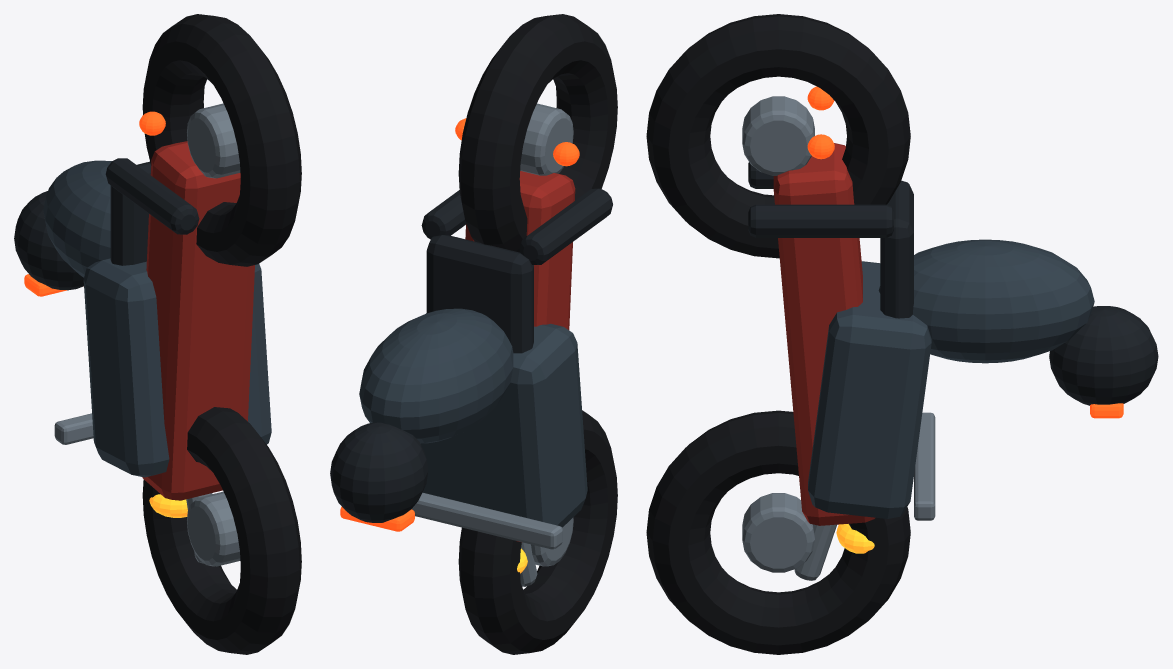
Rendered from raider-bike.glb.
The picture shows the model from 3 angles, left to right: view 1: azimuth 30°, elevation 25°; view 2: azimuth 150°, elevation 25°; view 3: azimuth 270°, elevation 25°; orthographic projection. The views are drawn at different scales.
Visible parts, largest first — view 1: Bike_Frame, wheel_0.72, wheel_-0.72, Bike_Armour, Bike_RiderTorso, Bike_RiderHead, Bike_Exhaust_-1, Hub_-0.72, Hub_0.72, Bike_Seat, Bike_Handle, Bike_Headlight (+1 smaller); view 2: wheel_0.72, Bike_Armour, wheel_-0.72, Bike_RiderTorso, Bike_Seat, Bike_RiderHead, Bike_Frame, Bike_Handle, Bike_Exhaust_-1, Hub_0.72, Bike_Exhaust_1, Hub_-0.72 (+3 smaller); view 3: wheel_0.72, wheel_-0.72, Bike_Armour, Bike_RiderTorso, Bike_Frame, Bike_RiderHead, Bike_Exhaust_1, Hub_0.72, Hub_-0.72, Bike_Seat, Bike_Handle, Bike_Fork (+1 smaller).
Part boxes in pixels (box(x1,y1,x2,y2)): Bike_Frame: box(142, 141, 254, 500); wheel_0.72: box(142, 14, 301, 266); wheel_-0.72: box(142, 407, 301, 654); Bike_Armour: box(83, 258, 271, 477); Bike_RiderTorso: box(43, 160, 112, 277); Bike_RiderHead: box(14, 191, 83, 290); Bike_Exhaust_-1: box(105, 158, 199, 234); Hub_-0.72: box(187, 491, 240, 566); Hub_0.72: box(187, 103, 240, 178); Bike_Seat: box(110, 161, 151, 265); Bike_Handle: box(54, 413, 93, 444); Bike_Headlight: box(149, 494, 187, 517); wheel_0.72: box(458, 14, 617, 252); Bike_Armour: box(421, 313, 587, 527); wheel_-0.72: box(458, 410, 617, 654); Bike_RiderTorso: box(359, 308, 513, 443); Bike_Seat: box(426, 235, 533, 353); Bike_RiderHead: box(330, 422, 428, 522); Bike_Frame: box(465, 171, 575, 542); Bike_Handle: box(411, 492, 562, 549); Bike_Exhaust_-1: box(519, 188, 612, 264); Hub_0.72: box(520, 103, 573, 175); Bike_Exhaust_1: box(421, 190, 466, 239); Hub_-0.72: box(531, 517, 573, 566); wheel_0.72: box(646, 14, 910, 258); wheel_-0.72: box(646, 410, 910, 654); Bike_Armour: box(808, 261, 931, 518); Bike_RiderTorso: box(878, 239, 1094, 363); Bike_Frame: box(773, 143, 875, 525); Bike_RiderHead: box(1049, 306, 1158, 405); Bike_Exhaust_1: box(748, 204, 893, 237); Hub_0.72: box(742, 96, 814, 175); Hub_-0.72: box(742, 493, 814, 572); Bike_Seat: box(880, 180, 913, 318); Bike_Handle: box(914, 412, 935, 520); Bike_Fork: box(794, 524, 836, 580).
Bounding box in the file's own units: 0.72 × 2.31 × 1.69.
